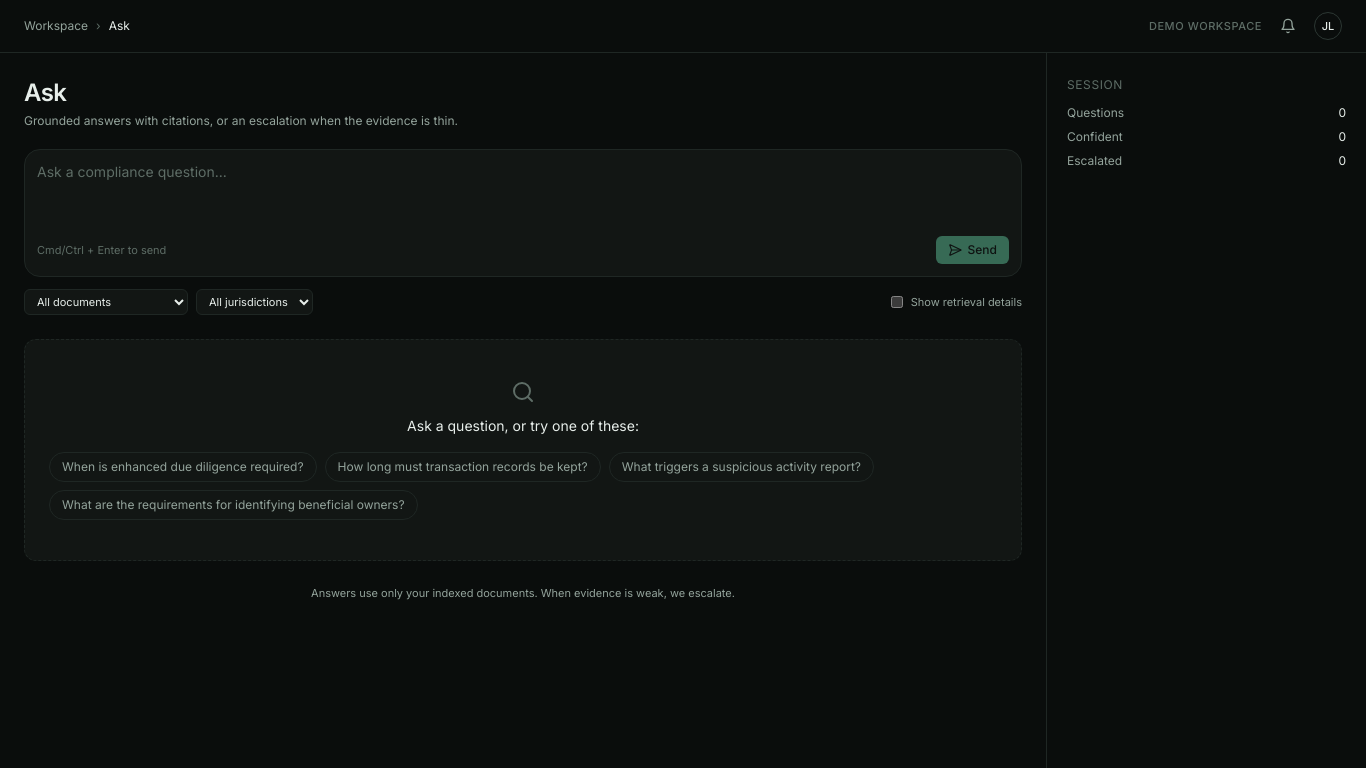
Scenario: AskPage › renders the insufficient state with no answer text
Type "insufficient evidence question" into the text box labelled "Ask a compliance question...". click: (523, 192)
box: [37,162,1009,222]
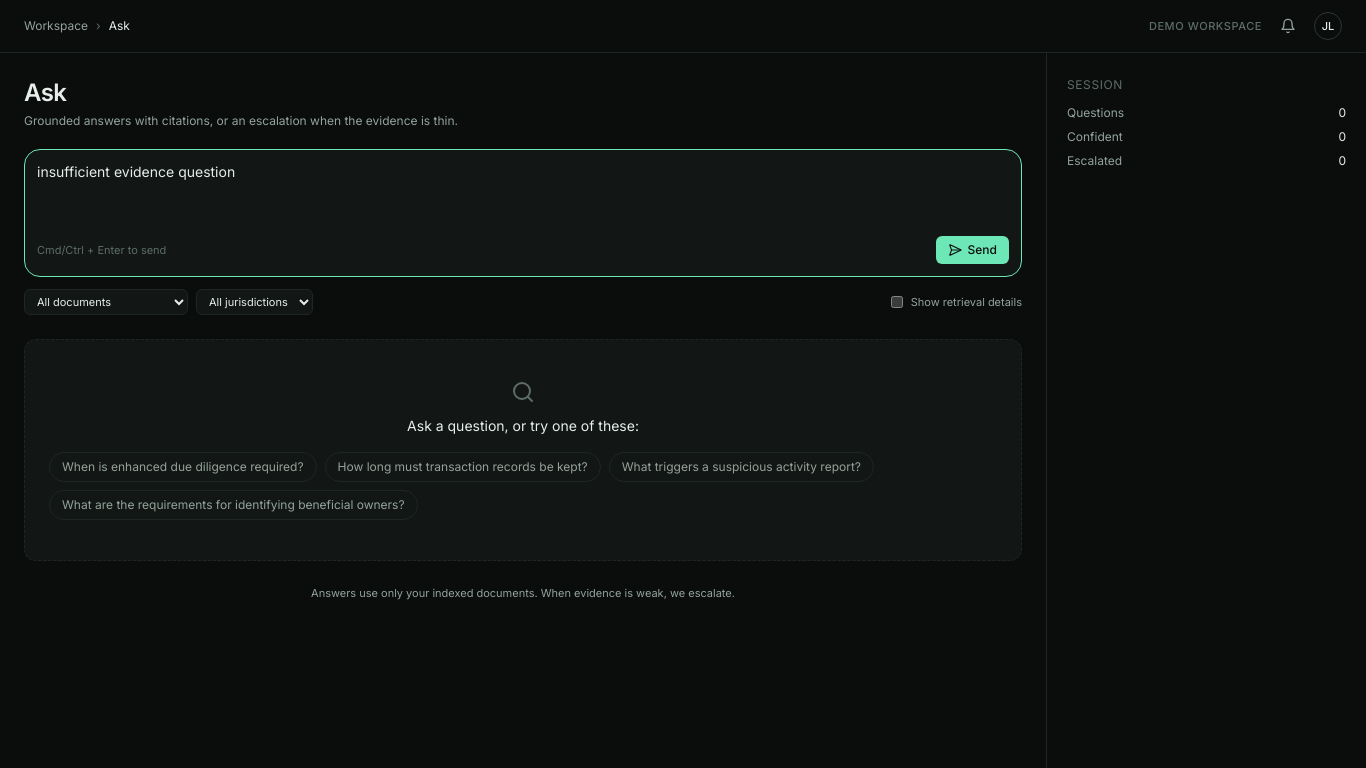
Click the button with aria-label "send question". click: (972, 250)
box: [936,236,1009,264]
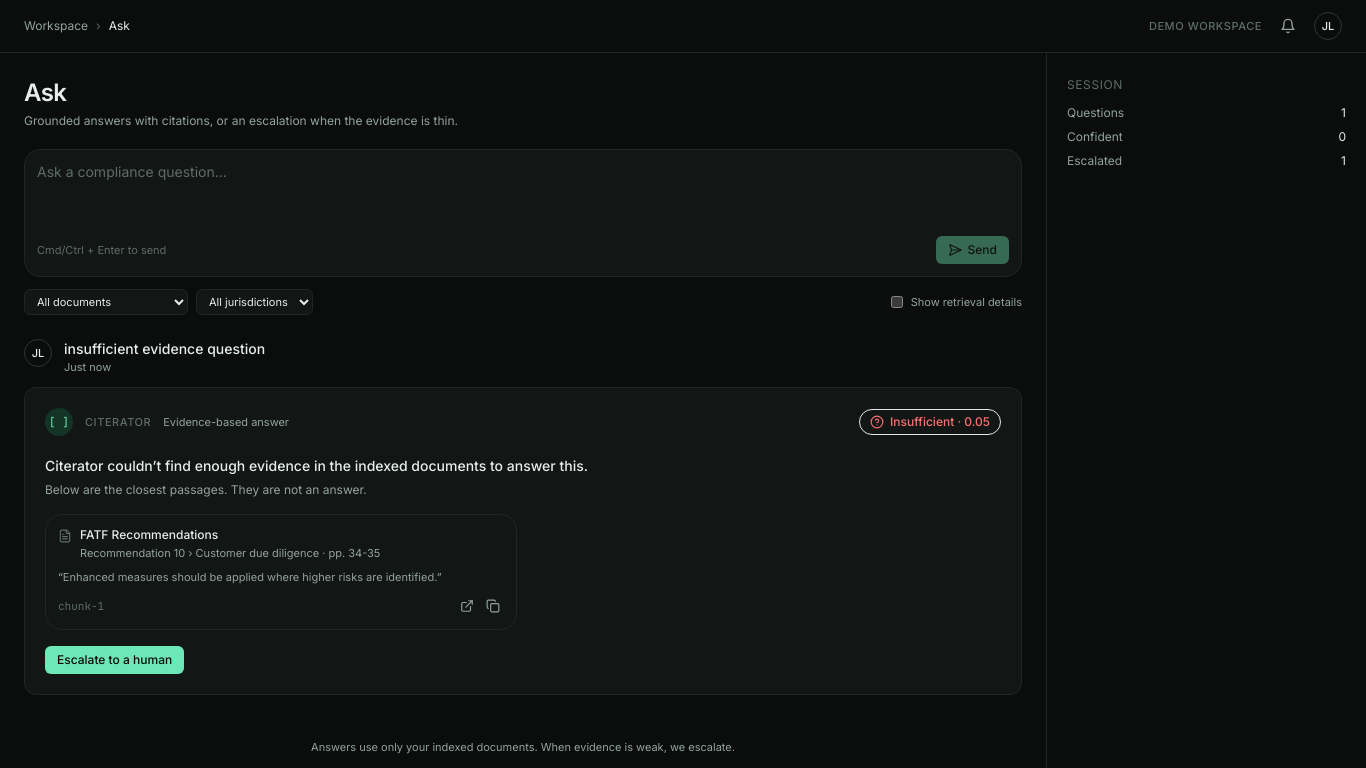
Now the heading "find enough evidence" is shown, box [45,457,588,474]
Now the button "Escalate to a human" is shown, box [45,646,184,674]
